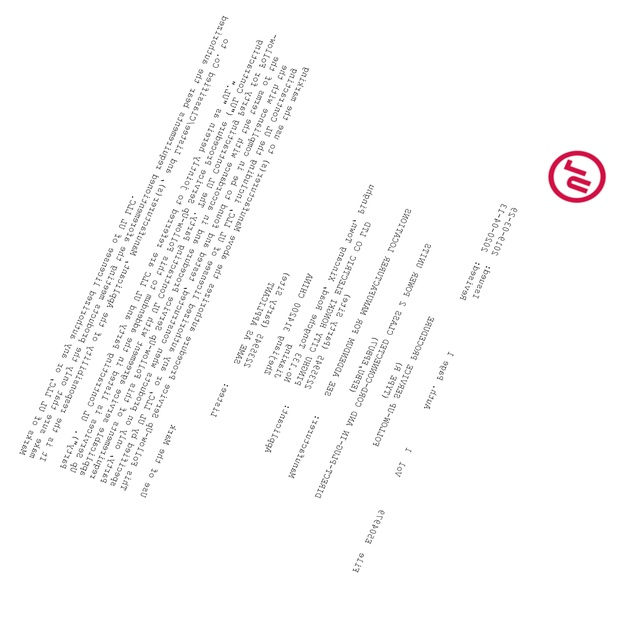ul: (548, 148, 607, 204)
